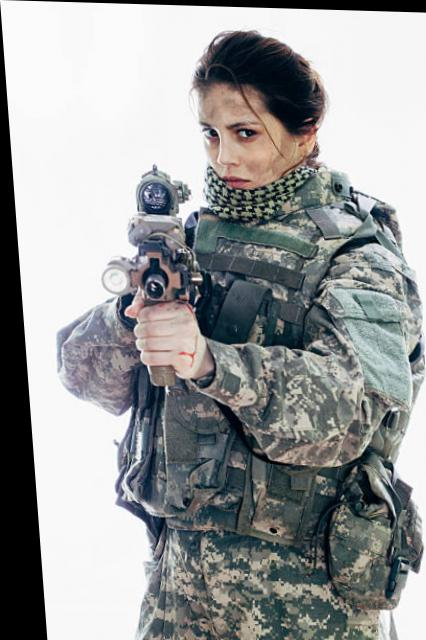other: (26, 19, 424, 640)
